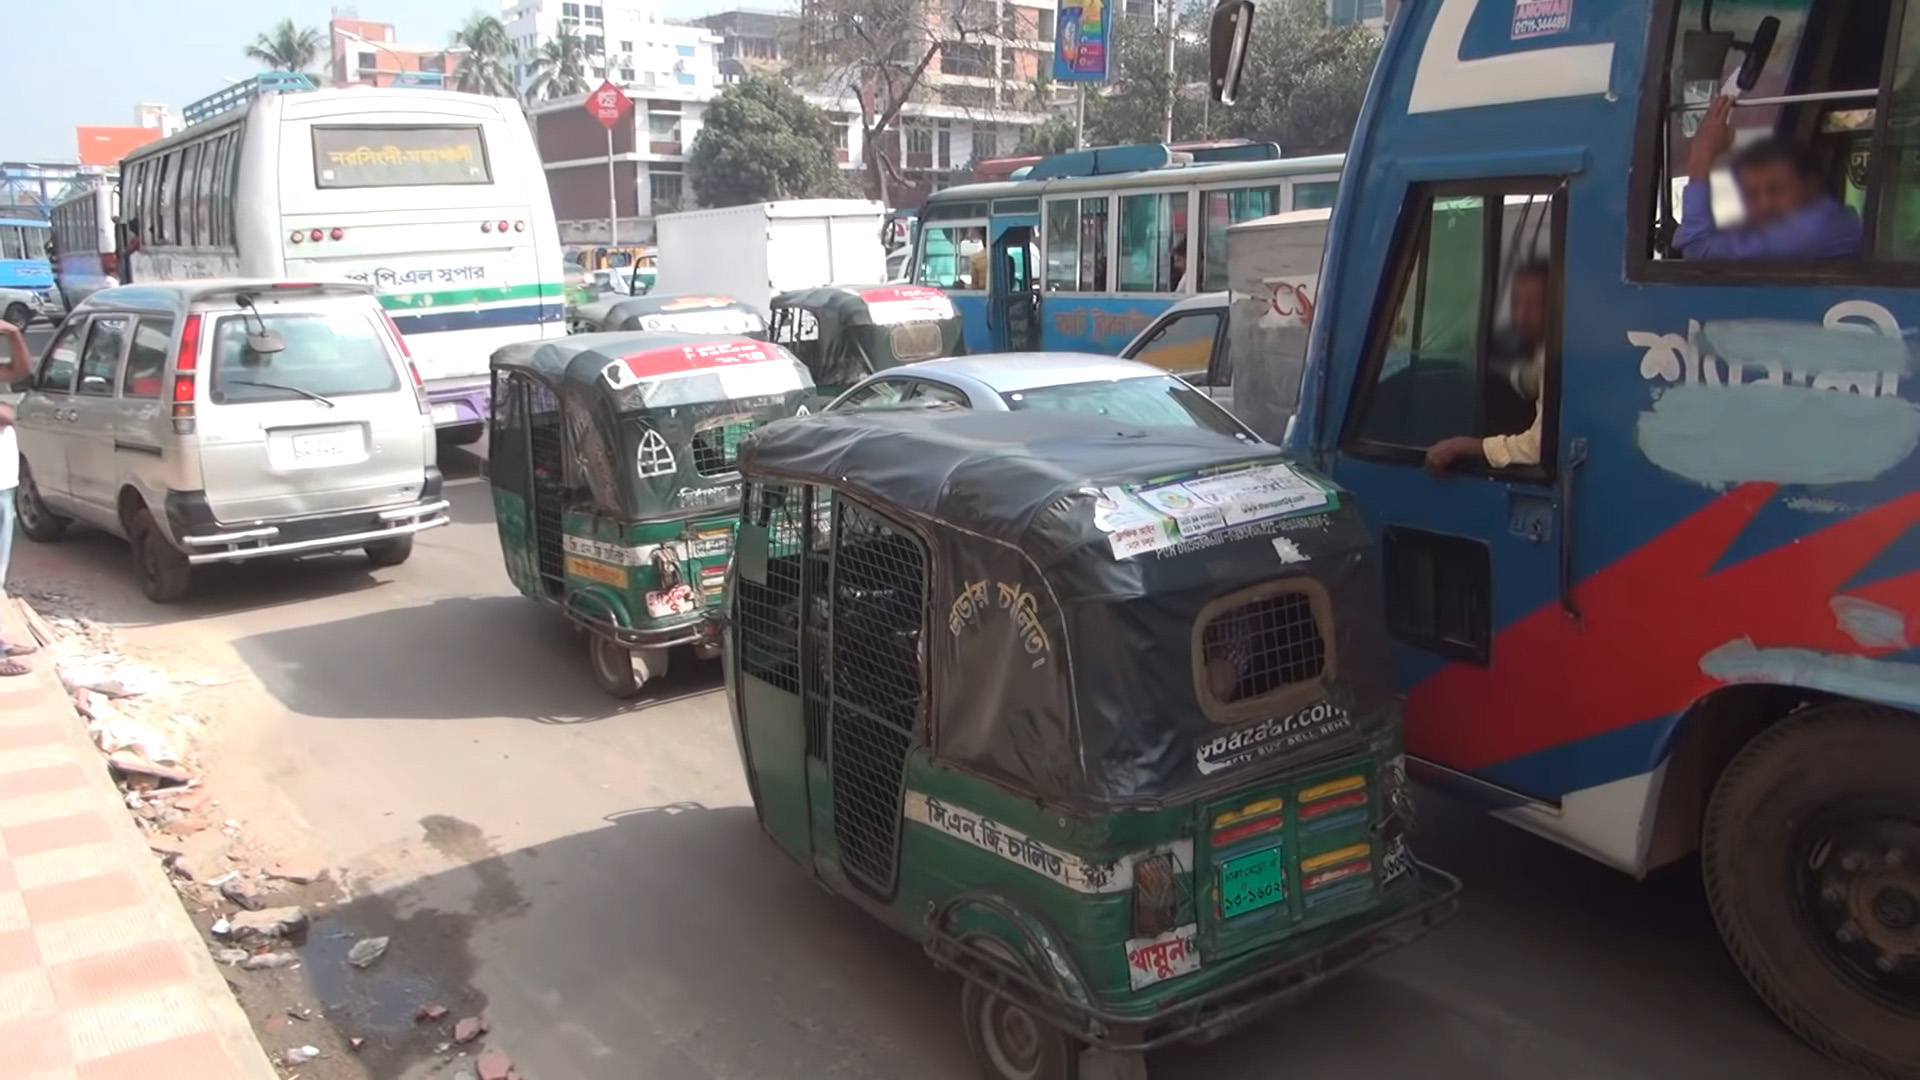bus: (1215, 5, 1920, 1073), (109, 69, 570, 440), (907, 142, 1352, 351), (47, 179, 124, 316), (1, 212, 65, 330)
car: (13, 280, 448, 601), (824, 353, 1276, 454)
cng: (692, 414, 1466, 1076), (484, 334, 815, 695), (770, 282, 972, 389), (572, 291, 765, 342)
truck: (1112, 200, 1328, 433), (626, 203, 891, 305)
